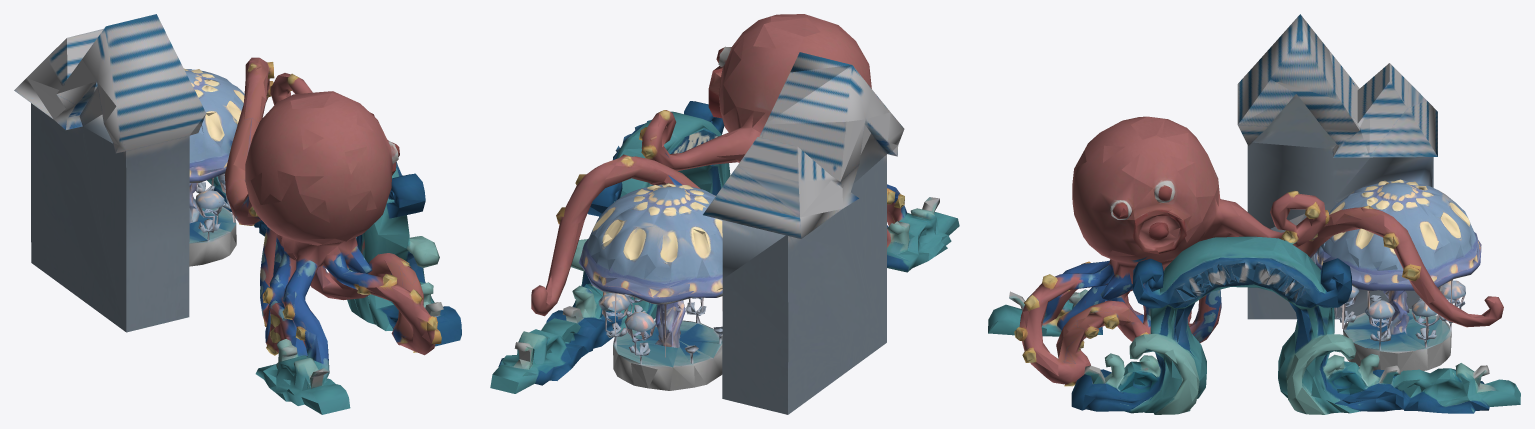
Rendered from 游客主基地.fbx.
3 renders of one model, left to right at view 1: azimuth 30°, elevation 25°; view 2: azimuth 150°, elevation 25°; view 3: azimuth 270°, elevation 25°, orthographic. The views are drawn at different scales.
Visible parts, largest first — view 1: tripo_node_75212864; view 2: tripo_node_75212864; view 3: tripo_node_75212864.
Part boxes in pixels (x1,y1,x2,y2): tripo_node_75212864: (14, 14, 461, 414); tripo_node_75212864: (490, 14, 959, 414); tripo_node_75212864: (988, 14, 1520, 414).
Size of the model in its own units: 57.48 by 57.05 by 97.93.
